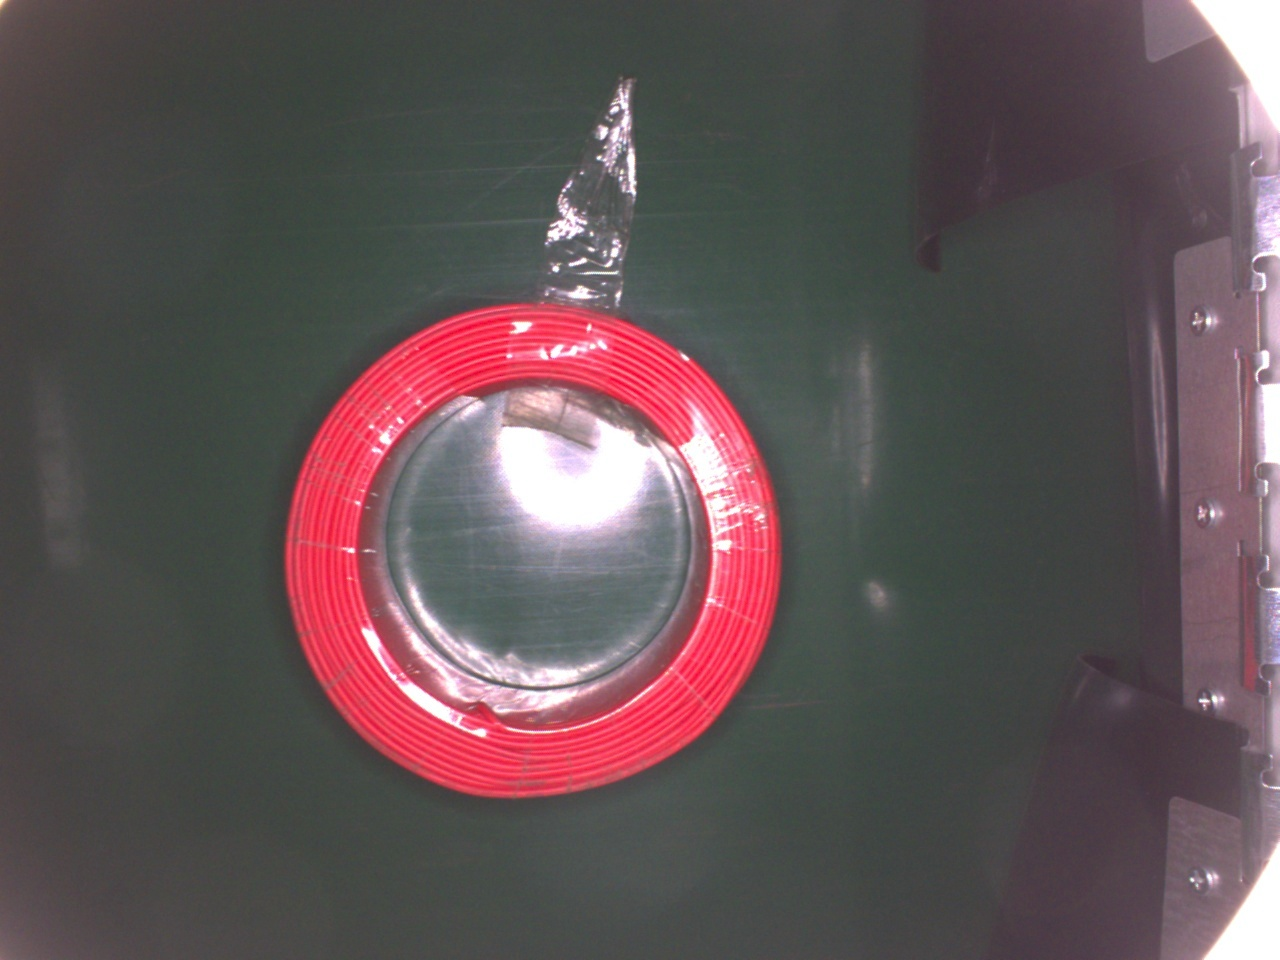red: (281, 301, 782, 793)
